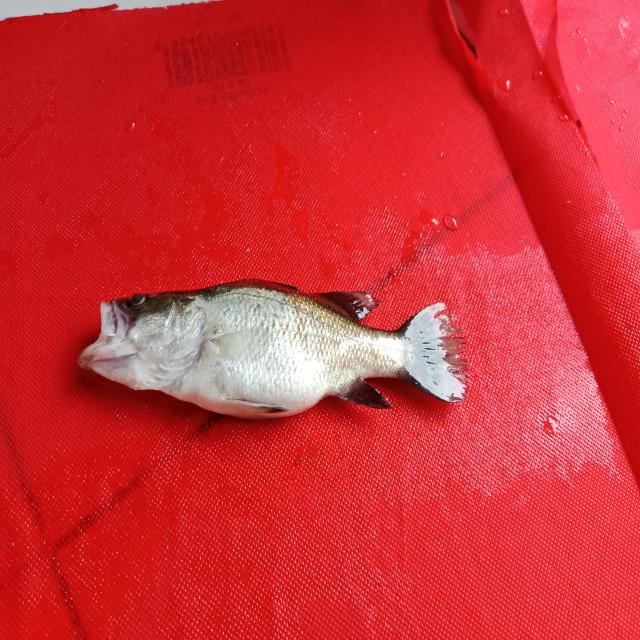ikan: (66, 251, 492, 438)
